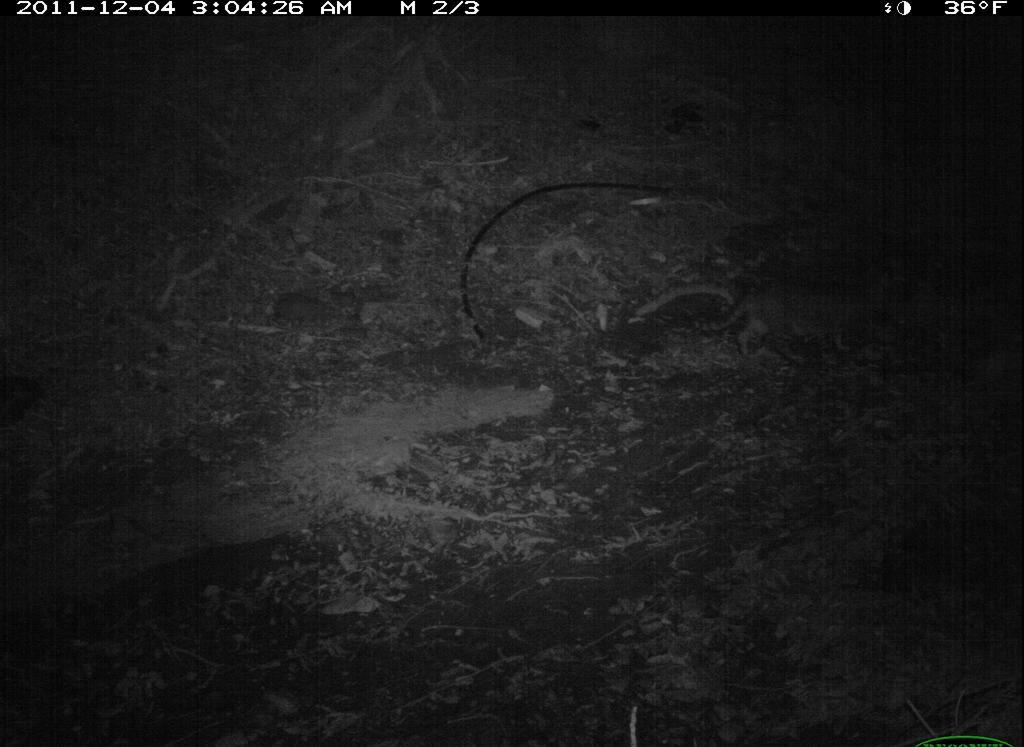cat: (689, 261, 900, 369)
